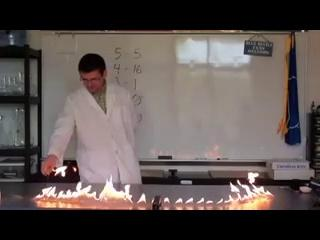Fire: (39, 166, 276, 207)
